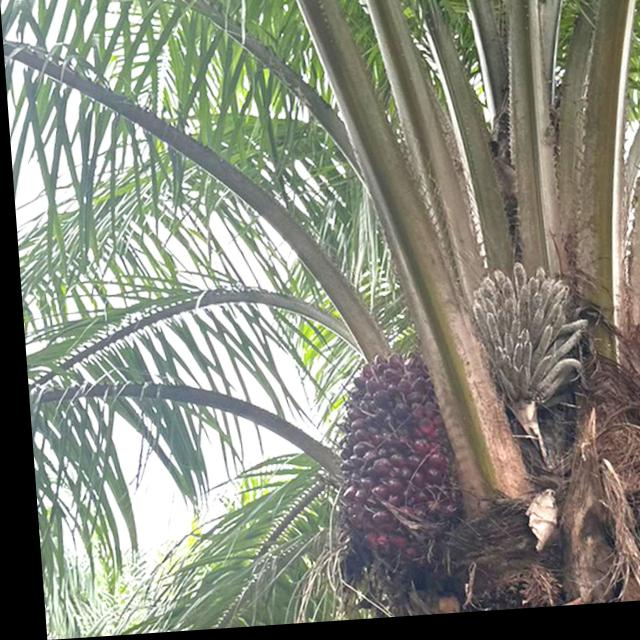ripe: (318, 349, 452, 559)
